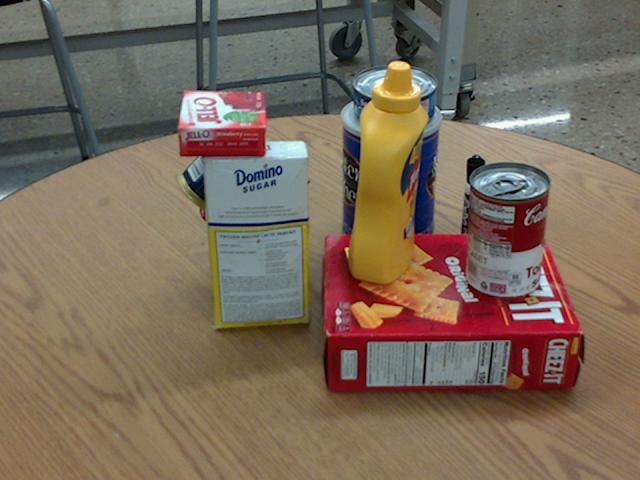cracker_box: (325, 231, 580, 392)
gelatin_box: (178, 90, 265, 156)
large_marker: (458, 155, 483, 264)
master_chef_can: (342, 93, 443, 253)
mug: (197, 181, 291, 291)
mustard_bottle: (348, 60, 428, 283)
potted_meat_can: (176, 115, 311, 244)
sugar_box: (200, 139, 309, 327)
tomato_soup_can: (466, 160, 551, 298)
tuna_fish_can: (353, 65, 437, 128)
